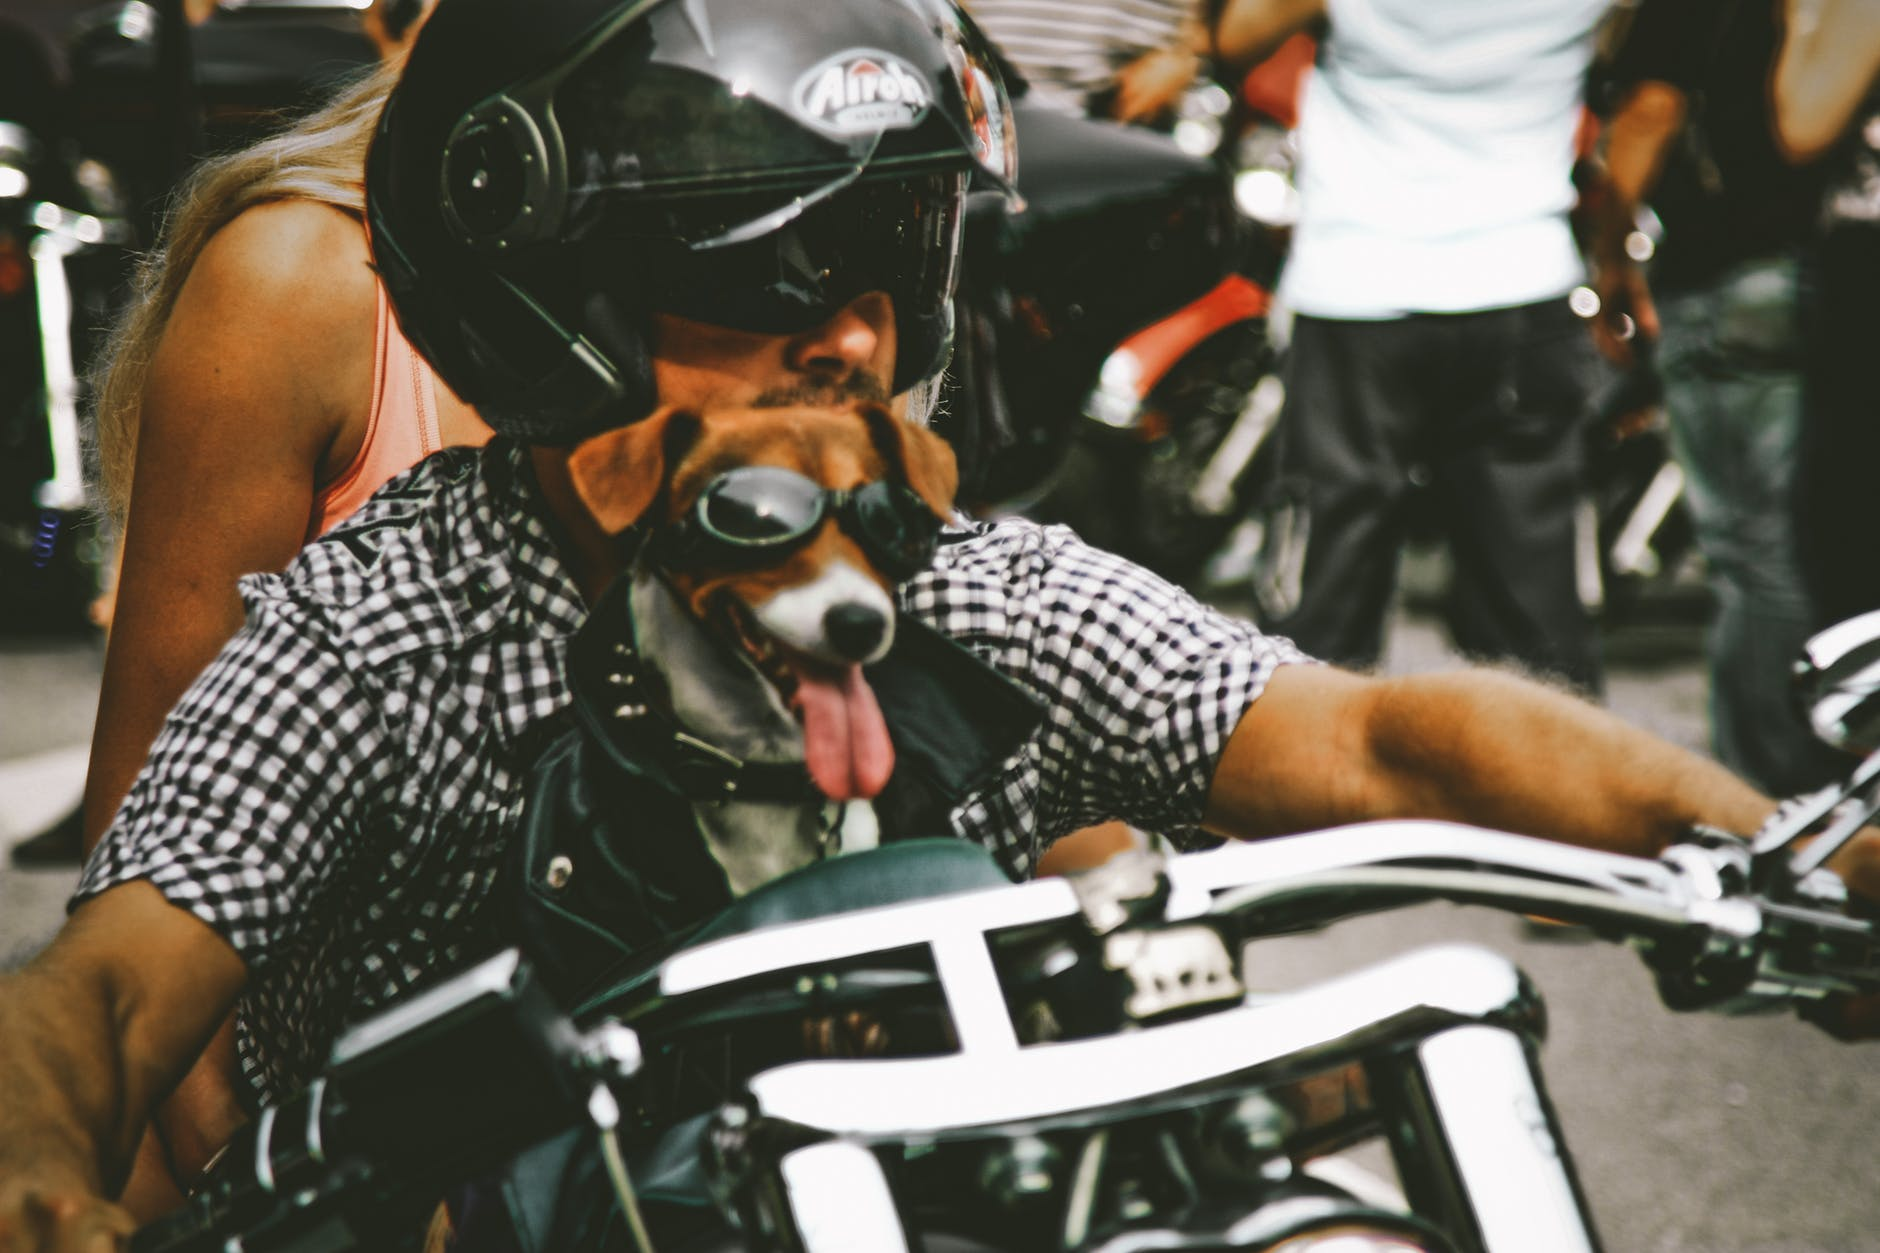helmet: (394, 8, 1012, 375)
